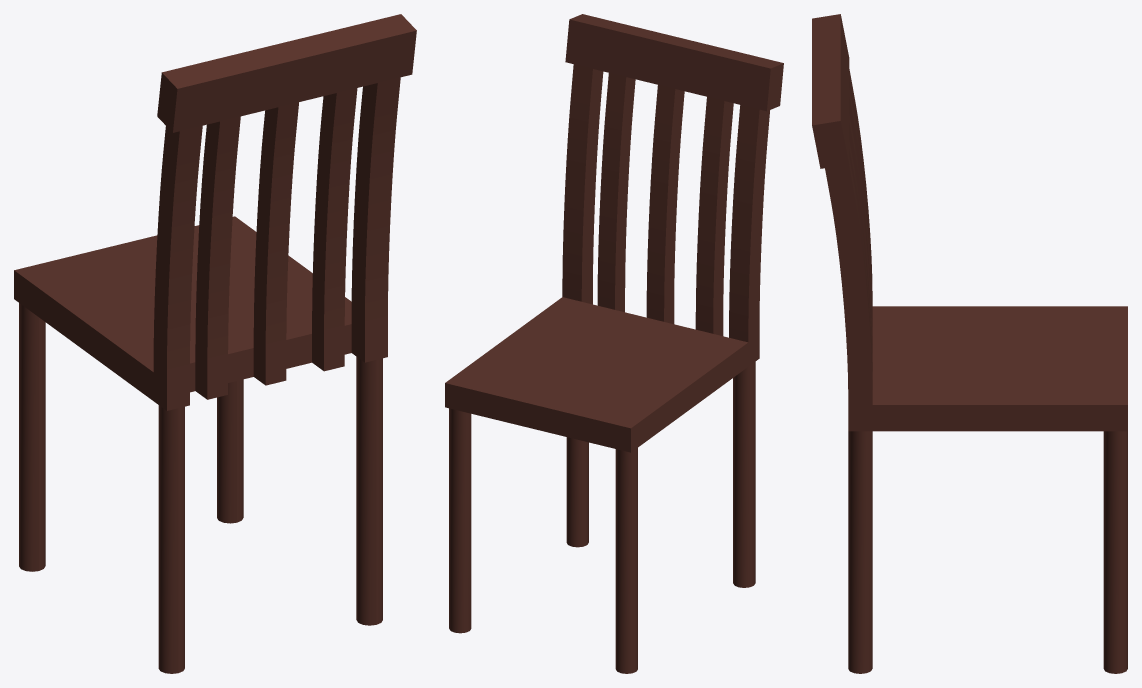
File: Dining Chairs.glb
The picture shows the model from 3 angles, left to right: view 1: azimuth 30°, elevation 25°; view 2: azimuth 150°, elevation 25°; view 3: azimuth 270°, elevation 25°; orthographic projection. The views are drawn at different scales.
Visible parts, largest first — view 1: Spline 2D (×5), Cube (×2), Cylinder (×4); view 2: Cube (×2), Spline 2D (×5), Cylinder (×4); view 3: Cube (×2), Cylinder (×2), Spline 2D (×5).
Part boxes in pixels (x1,y1,x2,y2): Spline 2D (×5): (153,77,400,410); Cube (×2): (14,14,416,400); Cylinder (×4): (19,303,382,673); Cube (×2): (445,14,783,452); Spline 2D (×5): (562,64,769,366); Cylinder (×4): (449,361,755,673); Cube (×2): (812,14,1127,431); Cylinder (×2): (848,431,1127,673); Spline 2D (×5): (825,69,872,431).
Bounding box in the file's own units: 0.52 × 1.26 × 0.6494.
